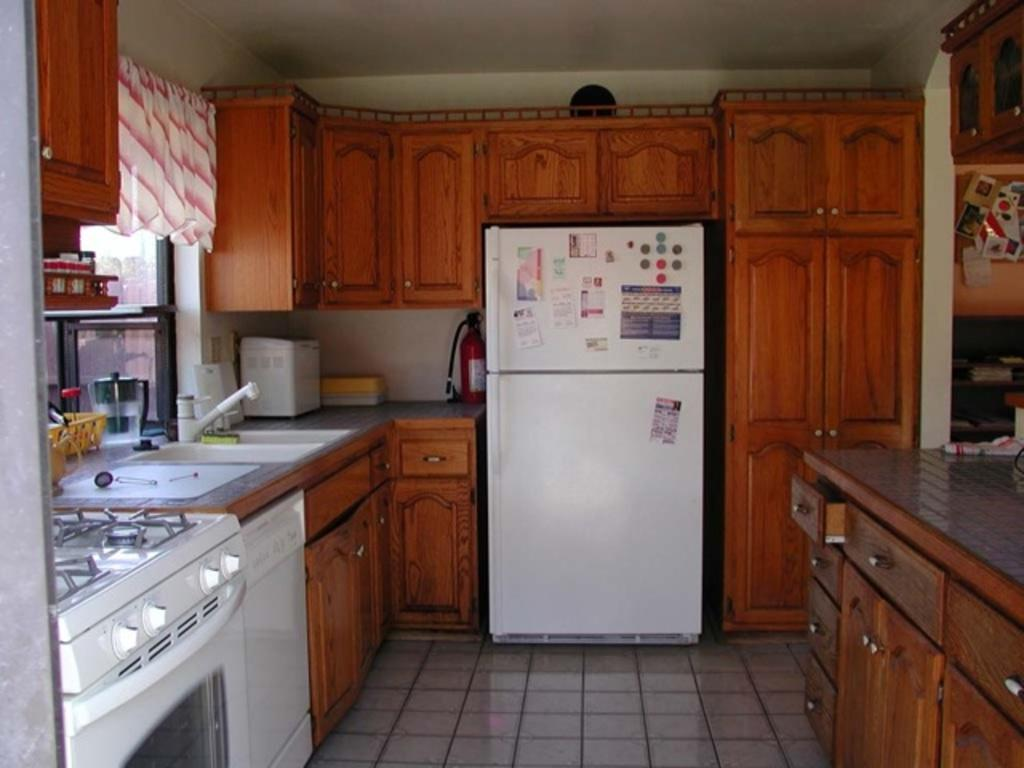cabinet_door: (740, 234, 818, 614), (832, 239, 918, 437), (36, 42, 118, 202), (732, 115, 838, 228), (397, 138, 468, 296), (330, 133, 394, 302), (834, 111, 920, 228), (402, 490, 476, 616), (874, 634, 940, 768), (610, 133, 714, 209), (482, 141, 598, 209), (838, 589, 878, 768), (316, 529, 366, 672), (291, 115, 328, 306), (964, 620, 1024, 712), (350, 508, 388, 634), (858, 536, 934, 596), (950, 705, 1020, 768), (799, 670, 845, 749), (402, 440, 472, 478), (794, 602, 842, 657), (783, 484, 824, 524), (801, 545, 841, 578)
handle: (79, 596, 244, 703), (482, 367, 508, 490), (488, 223, 506, 357), (994, 659, 1024, 700), (40, 131, 62, 178), (866, 548, 896, 580), (785, 490, 812, 522), (808, 197, 830, 226), (804, 418, 826, 442), (826, 196, 844, 225), (804, 687, 818, 723), (866, 639, 884, 667), (802, 614, 822, 636), (829, 416, 844, 445), (808, 556, 826, 578), (424, 451, 446, 467), (860, 628, 870, 655)
